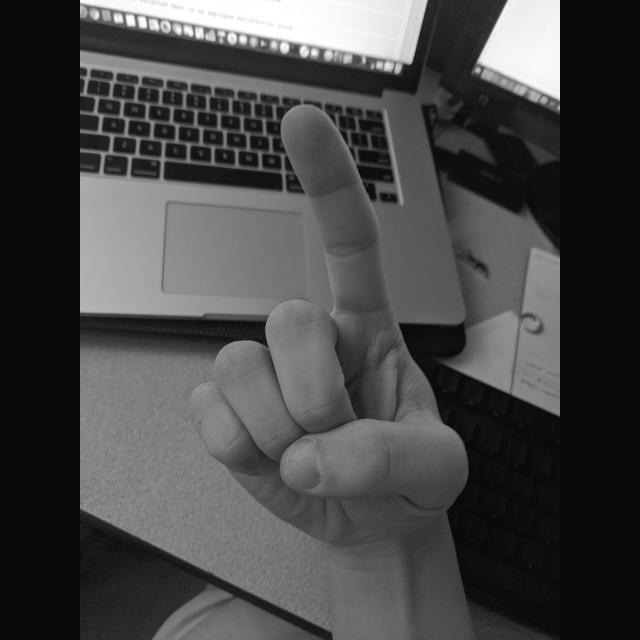D: (183, 99, 479, 556)
